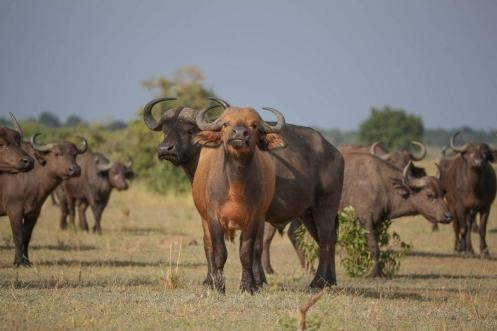buffalo: (142, 93, 344, 290), (194, 100, 287, 300), (326, 149, 453, 279), (0, 134, 88, 271), (52, 145, 138, 236), (441, 128, 496, 260)
